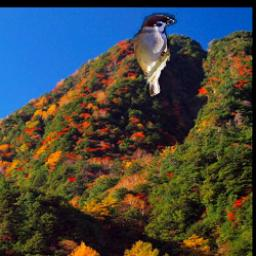Sparrow: (132, 14, 177, 97)
